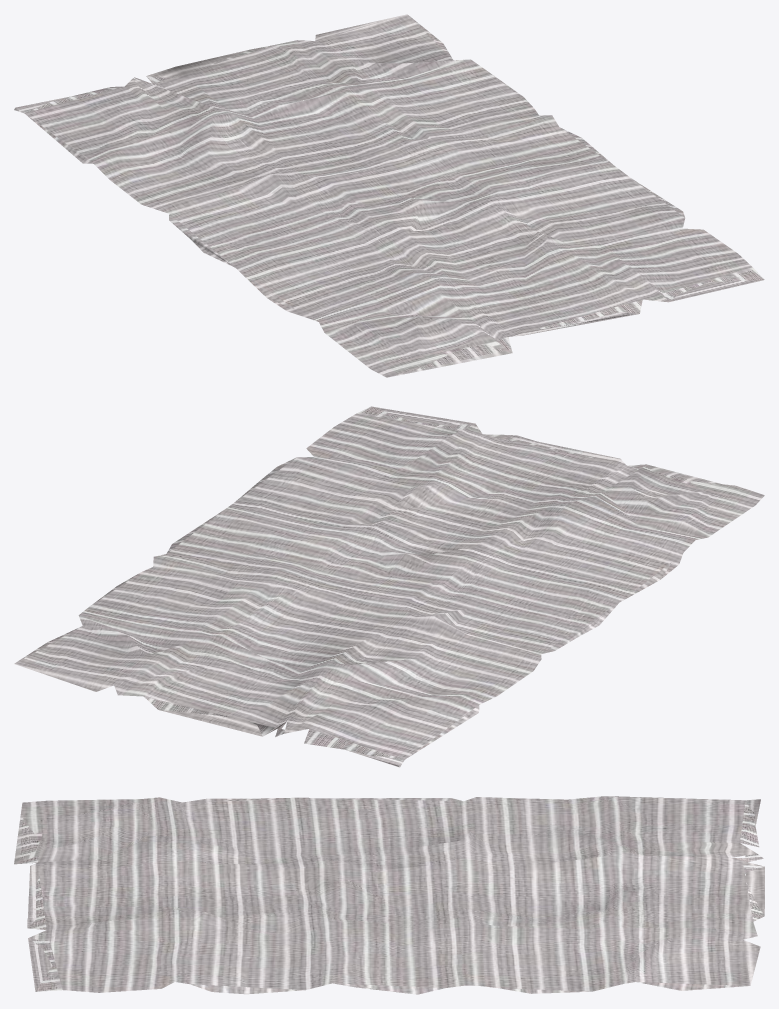
Rendered from Carpet0024.obj.
3 views of the same model, one above another, from view 1: azimuth 30°, elevation 25°; view 2: azimuth 150°, elevation 25°; view 3: azimuth 270°, elevation 25° (orthographic).
Size of the model in its own units: 2.39 by 0.107 by 3.86.
1 material, 1 textured.
